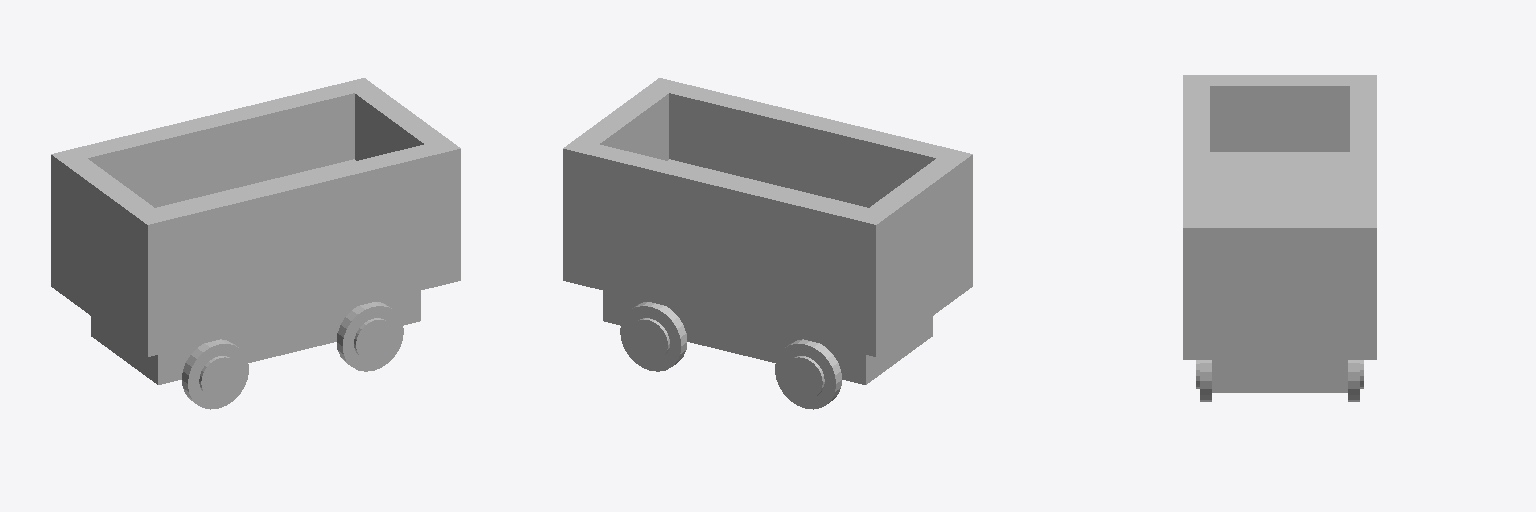
The model's file is trainTender.obj.
3 renders of one model, left to right at view 1: azimuth 30°, elevation 25°; view 2: azimuth 150°, elevation 25°; view 3: azimuth 270°, elevation 25°, orthographic.
Visible parts, largest first — view 1: trainTender, wheel; view 2: trainTender, wheel; view 3: trainTender, wheel.
Boxes of the visible parts, <box> form: trainTender: <box>51,78,460,384</box>; wheel: <box>182,302,403,409</box>; trainTender: <box>563,78,972,384</box>; wheel: <box>620,302,841,409</box>; trainTender: <box>1183,75,1376,392</box>; wheel: <box>1196,360,1363,401</box>.
Bounding box in the file's own units: 0.2484 × 0.1584 × 0.1327.